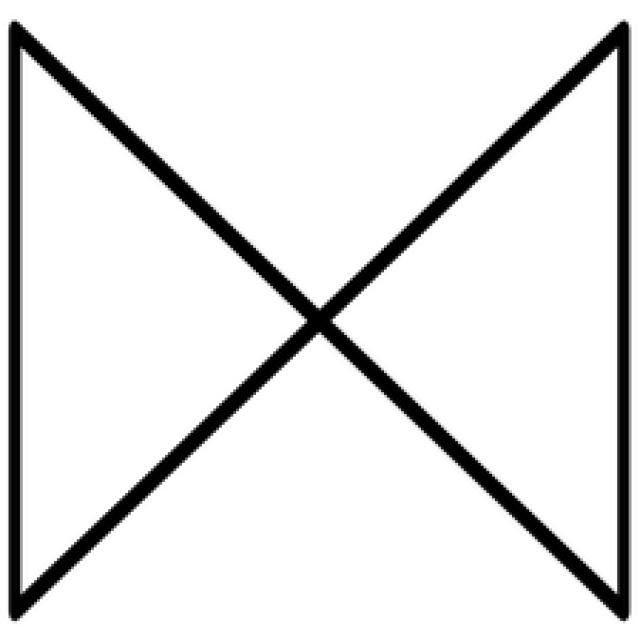Gate valve: (320, 31, 626, 607), (15, 30, 316, 606)
